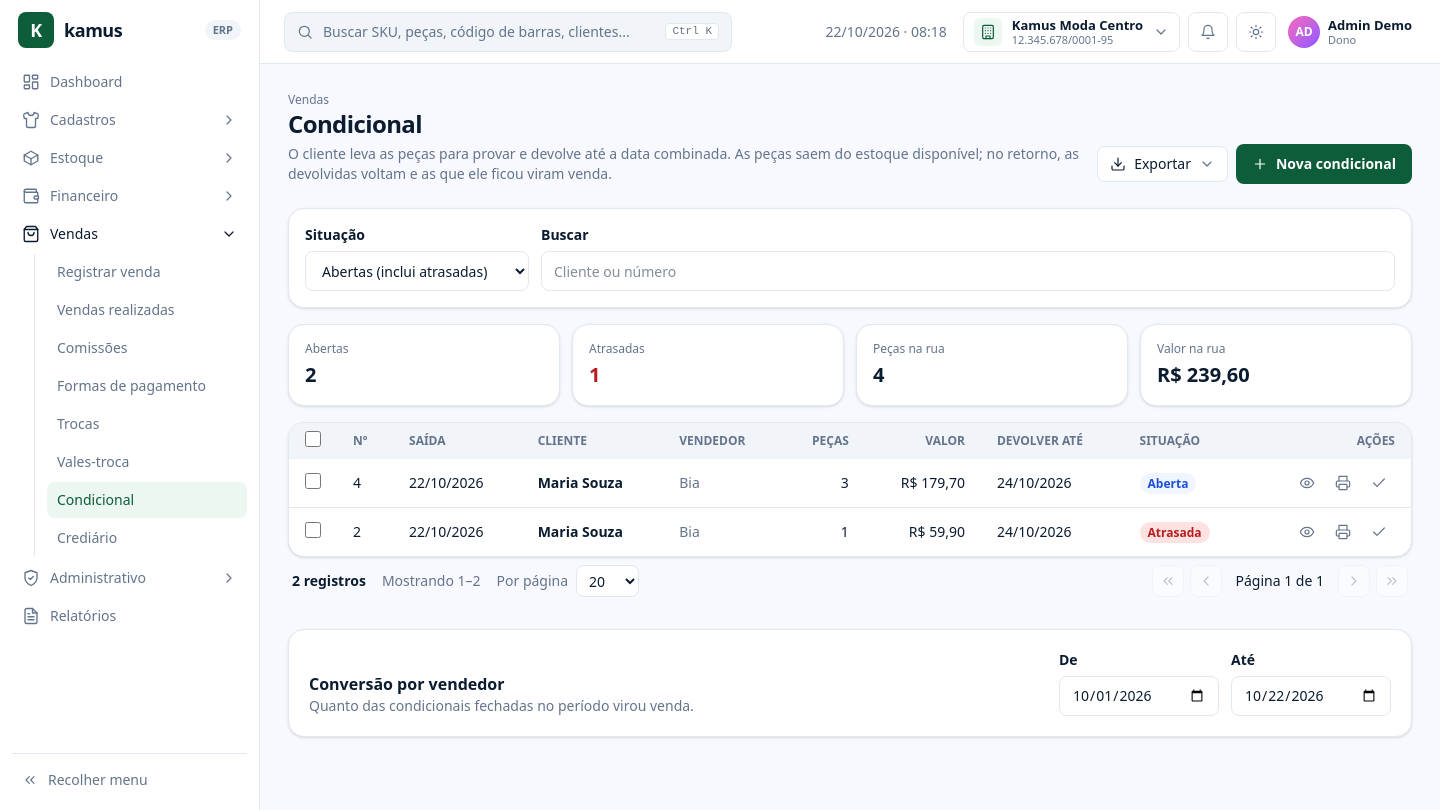
Scenario: Vendas → Condicional › fecha devolvendo uma peça e vende o resto no PIX
Click the button named "Fechar condicional 4": (1379, 483) top-left (1363, 467), bottom-right (1395, 499)
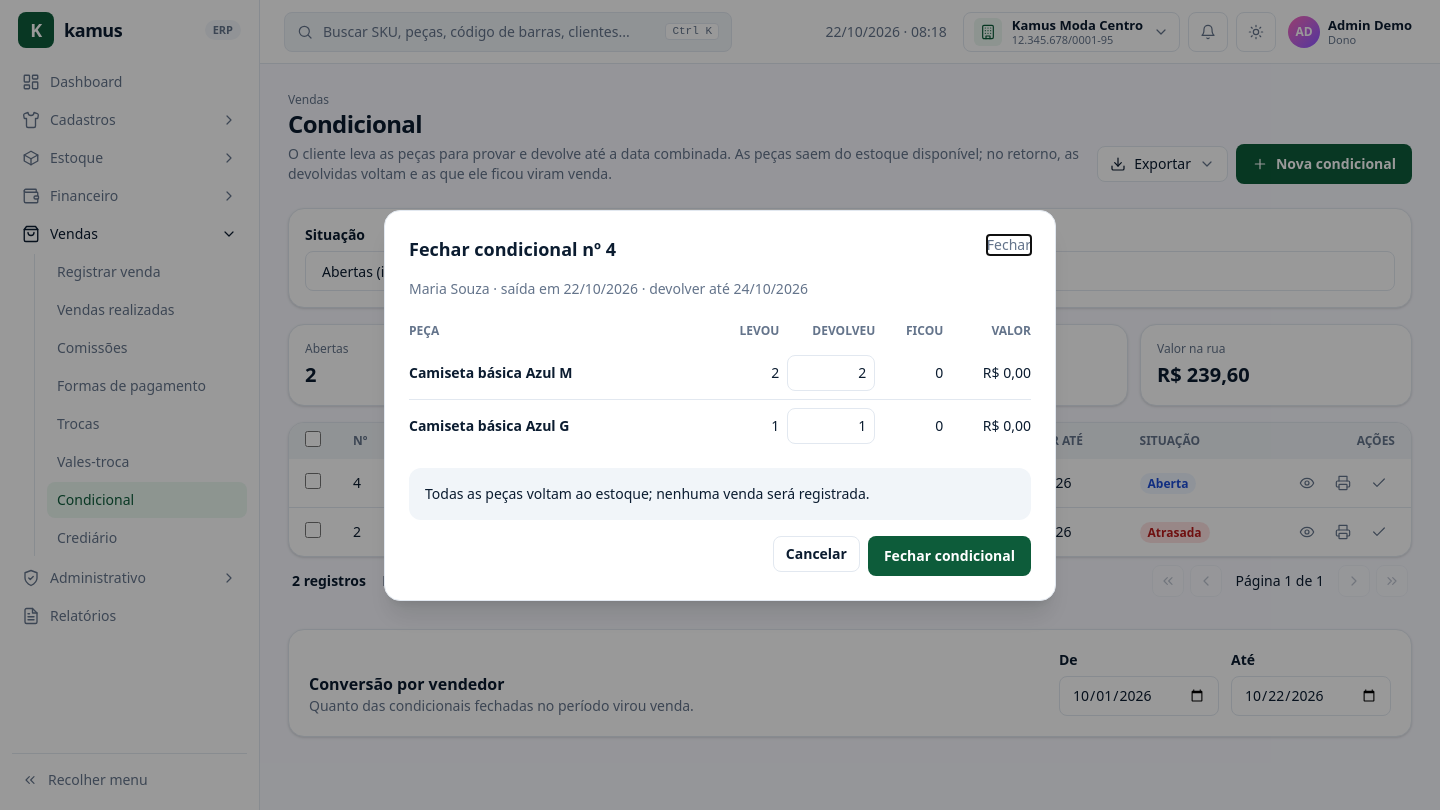
Check: the field named "Devolveu Camiseta básica Azul M" holds "2"
Clear the field named "Devolveu Camiseta básica Azul M": (831, 372) top-left (787, 354), bottom-right (875, 390)
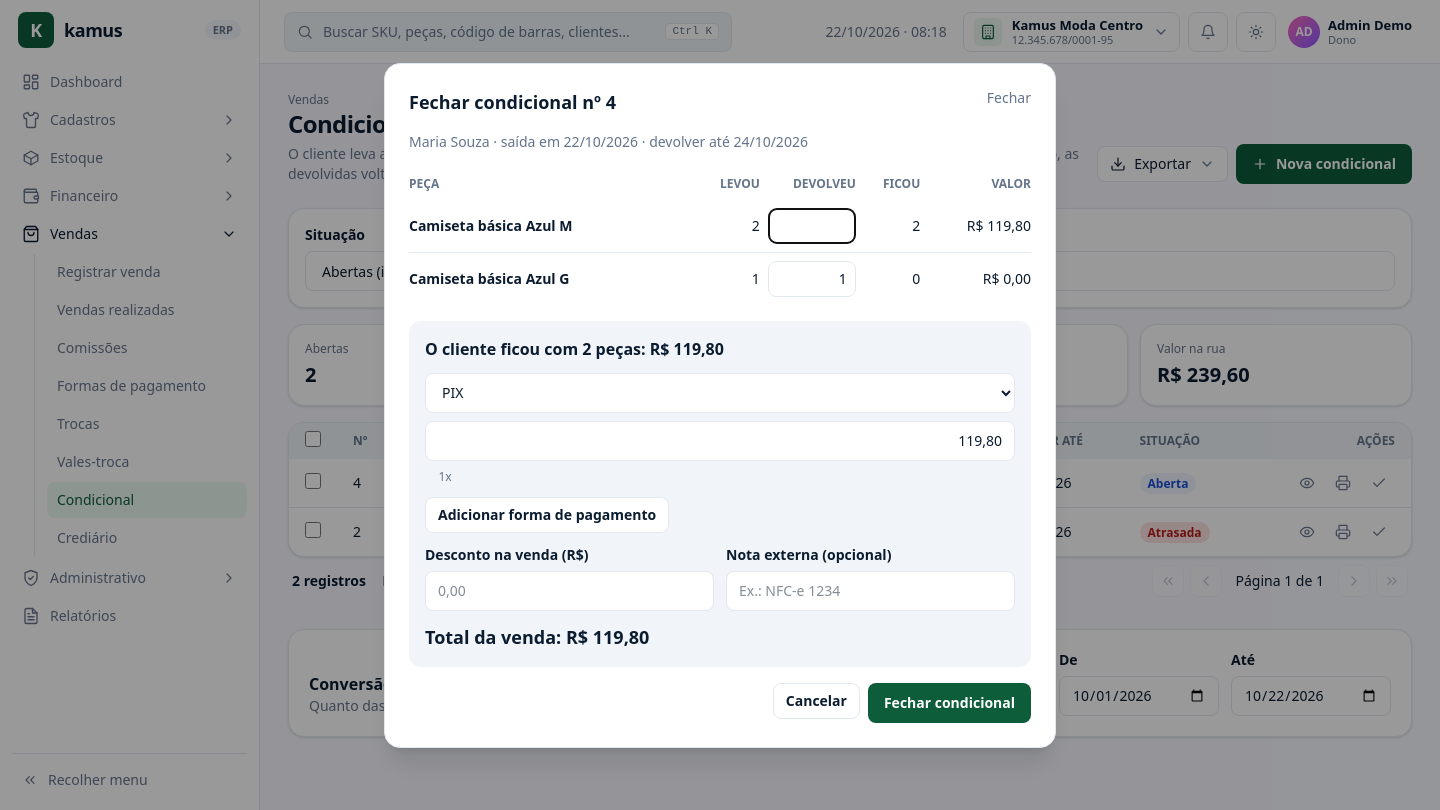
In the field named "Devolveu Camiseta básica Azul M": (812, 226) top-left (768, 208), bottom-right (856, 244), type "1"
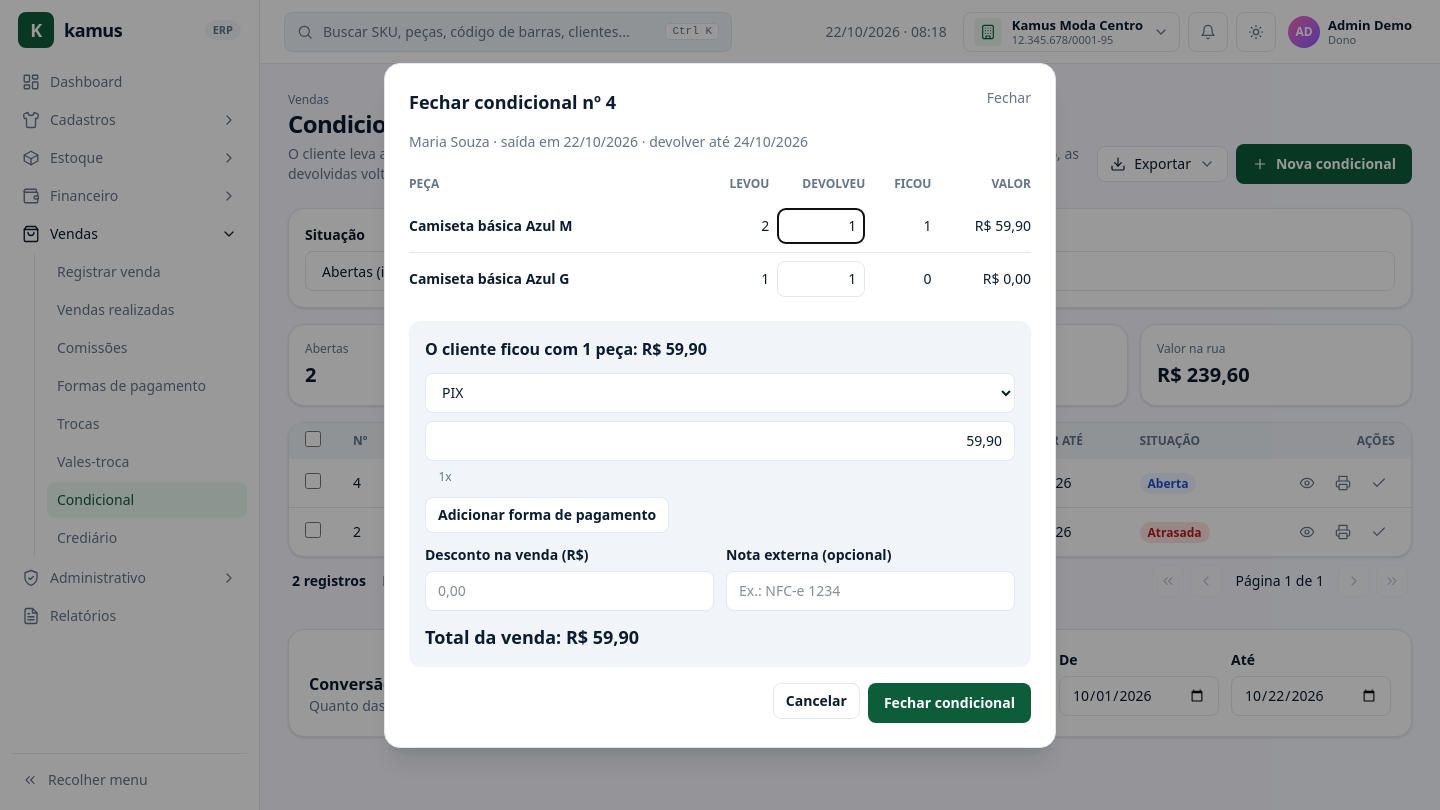
Replace the text in the field named "Devolveu Camiseta básica Azul G" with "0": (821, 278) top-left (777, 260), bottom-right (865, 296)
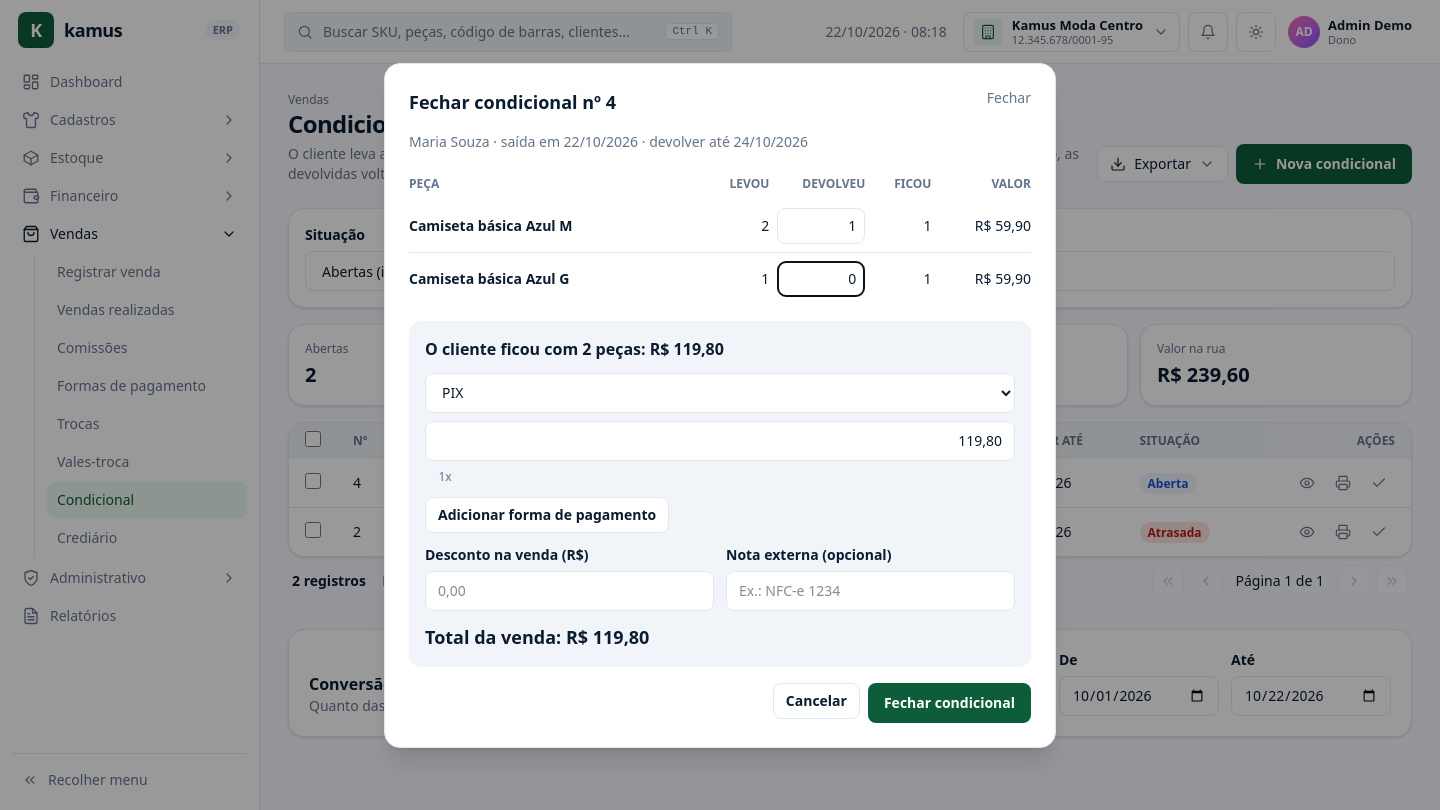
Check: the text "O cliente ficou com 2 peças: R$ 119,80" is shown, box top-left (425, 338), bottom-right (724, 360)
Check: the field named "Valor do pagamento 1" holds "119,80", box top-left (425, 420), bottom-right (1015, 460)
Click the button "Fechar condicional": (949, 702) top-left (868, 682), bottom-right (1031, 722)
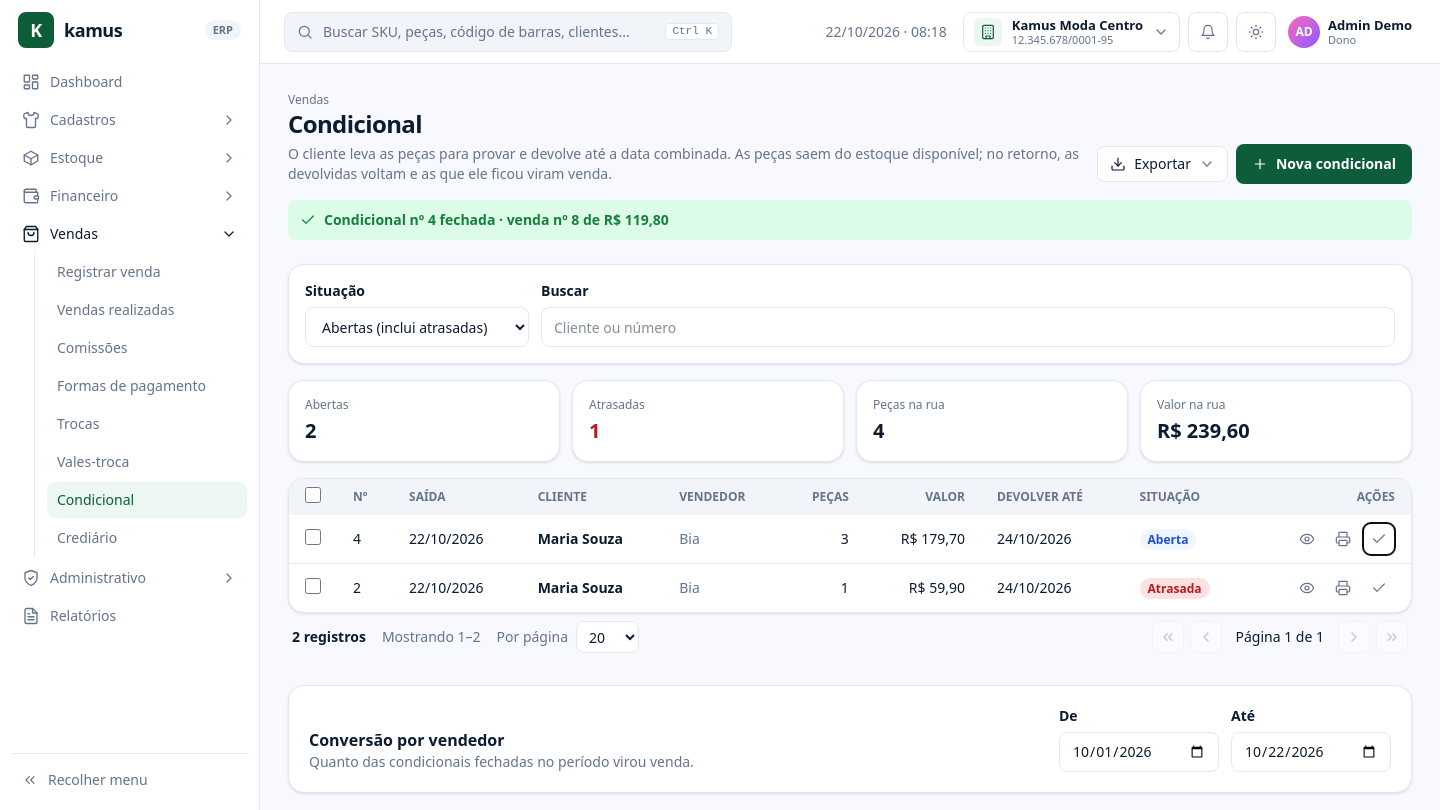
Check: the text "Condicional nº 4 fechada · venda nº 8 de R$ 119,80" is shown, box top-left (324, 210), bottom-right (669, 230)
